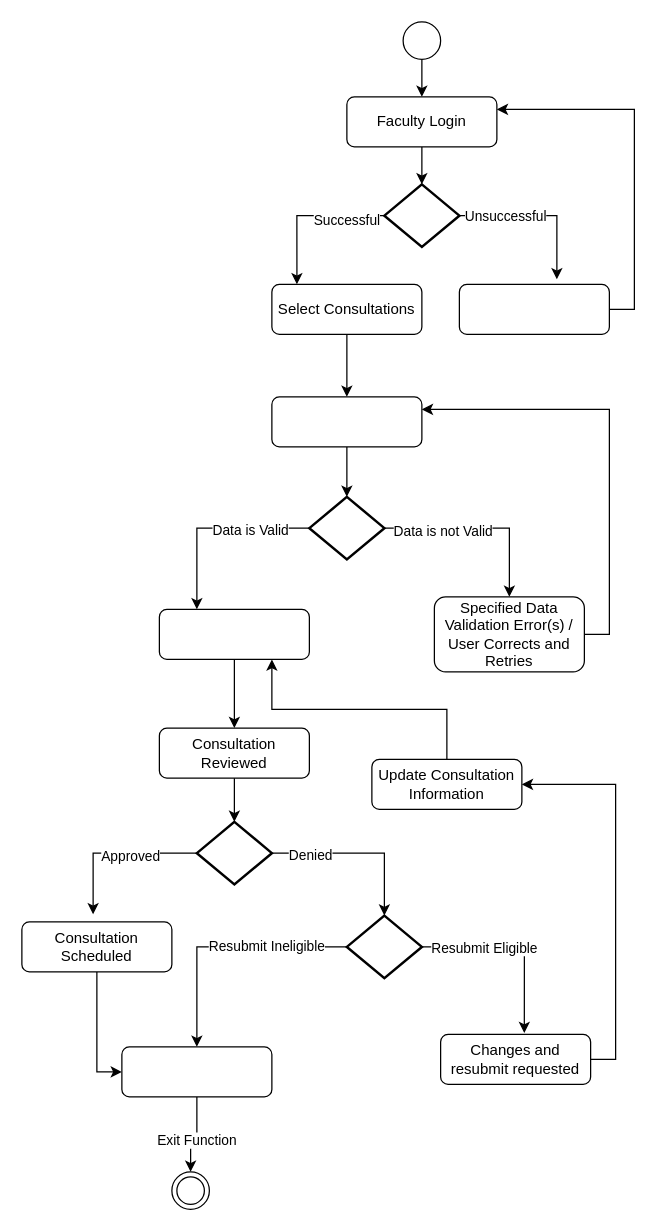
This 666x1231 diagram has some shape labels left out. The shapes that lost their labels are listed below. From the top down, each one's box as (x1, y1, x2, y2) in pixels, then its label:
(458, 283, 609, 334): Error/Retry/Account Recovery
(271, 396, 422, 447): Enter Consultation information
(158, 608, 309, 659): Submit Consultation Request/notice sent CTL staff
(121, 1046, 272, 1097): Notify User
